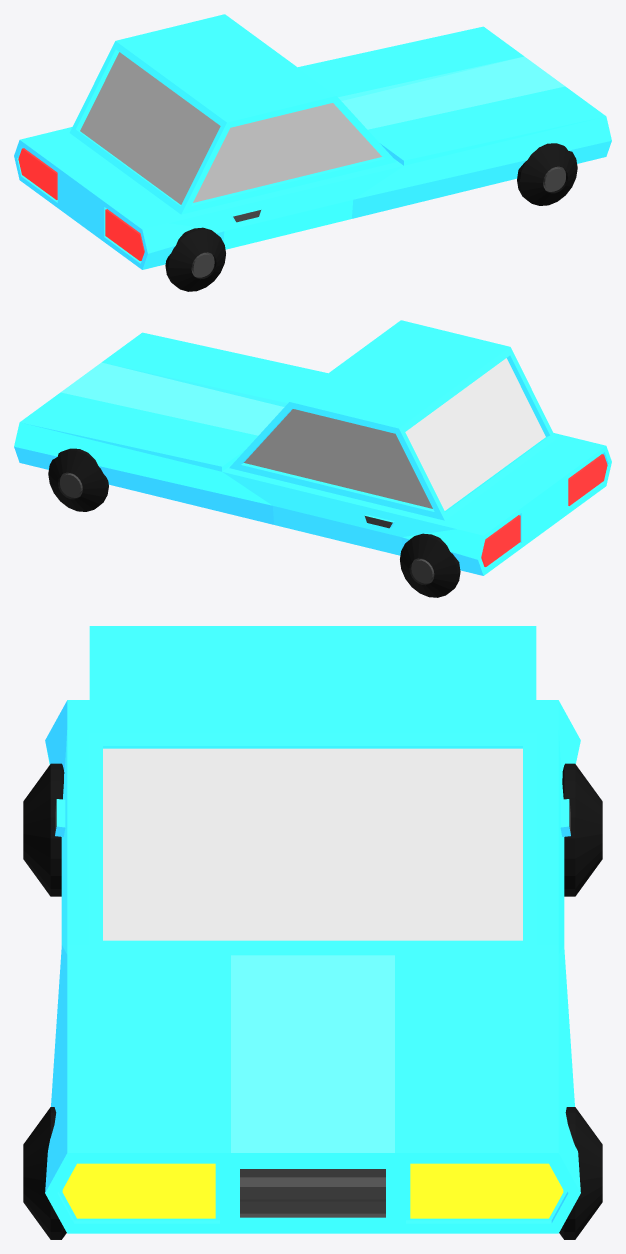
The model's file is car.fbx.
3 views of the same model, one above another, from view 1: azimuth 30°, elevation 25°; view 2: azimuth 150°, elevation 25°; view 3: azimuth 270°, elevation 25° (orthographic). The views are drawn at different scales.
Parts seen in each view (by area): view 1: Cube, Cylinder; view 2: Cube, Cylinder; view 3: Cube, Cylinder.
Part boxes in pixels (x1=…): Cube: x1=14, y1=14, x2=611, y2=269; Cylinder: x1=165, y1=143, x2=577, y2=291; Cube: x1=14, y1=320, x2=611, y2=575; Cylinder: x1=48, y1=448, x2=460, y2=597; Cube: x1=45, y1=626, x2=580, y2=1233; Cylinder: x1=23, y1=763, x2=602, y2=1239.
Bounding box in the file's own units: 480 × 150 × 260.
